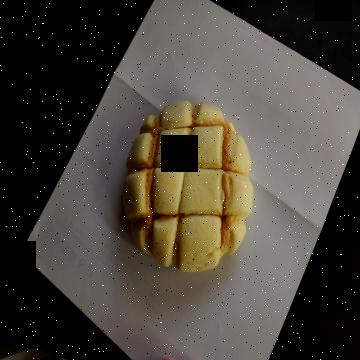melon_bread: (122, 98, 253, 272)
